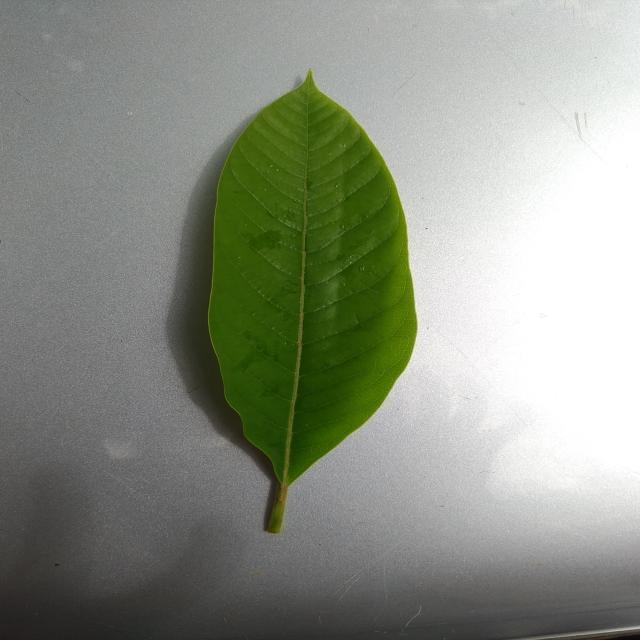coffee: (209, 72, 416, 534)
